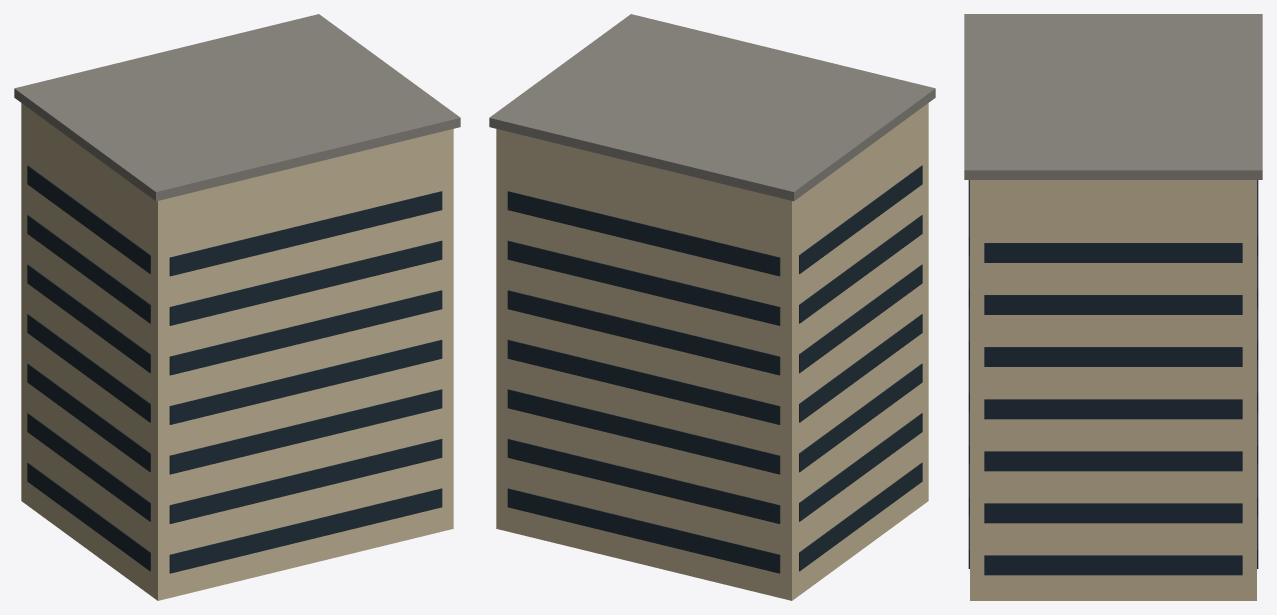
File: Building5.glb
3 renders of one model, left to right at view 1: azimuth 30°, elevation 25°; view 2: azimuth 150°, elevation 25°; view 3: azimuth 270°, elevation 25°, orthographic. The views are drawn at different scales.
Visible parts, largest first — view 1: Building5; view 2: Building5; view 3: Building5.
Part boxes in pixels (bbox=[...]): Building5: bbox=[14, 14, 460, 600]; Building5: bbox=[489, 14, 935, 600]; Building5: bbox=[964, 14, 1262, 600].
Size of the model in its own units: 20.6 by 26.6 by 16.6.
